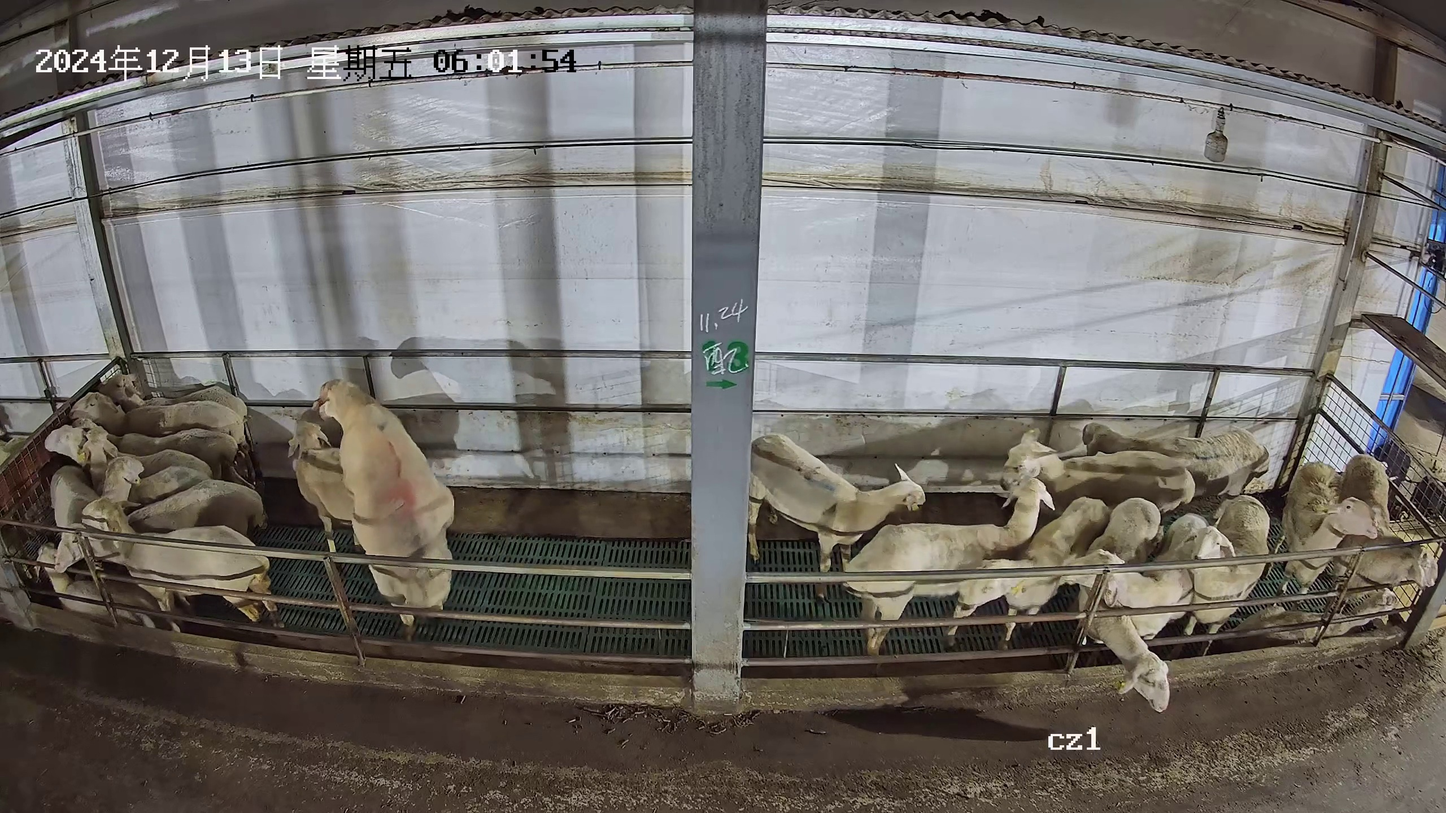Smounting: (282, 375, 457, 636)
mounted: (286, 415, 365, 551)
